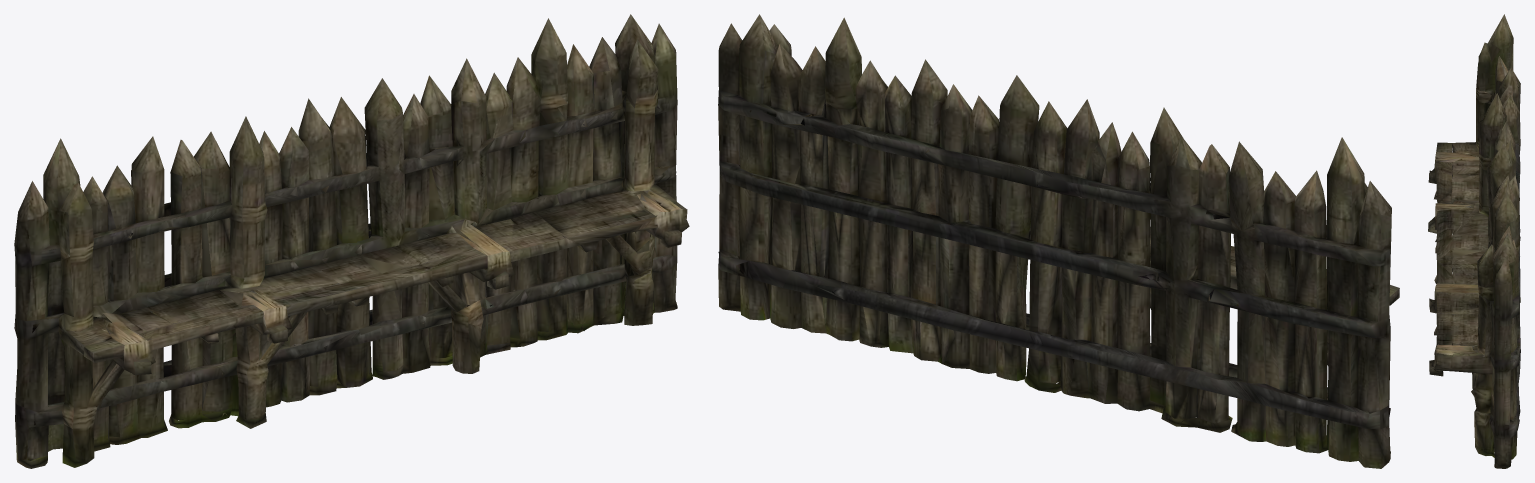
The picture shows the model from 3 angles, left to right: view 1: azimuth 30°, elevation 25°; view 2: azimuth 150°, elevation 25°; view 3: azimuth 270°, elevation 25°; orthographic projection. The views are drawn at different scales.
Parts seen in each view (by area): view 1: world; view 2: world; view 3: world.
Boxes of the visible parts, bbox=[...] form: world: bbox=[14, 14, 689, 468]; world: bbox=[718, 14, 1399, 468]; world: bbox=[1428, 14, 1520, 468].
Bounding box in the file's own units: 1 × 0.4578 × 0.1645.
Materials: 1 (1 with a texture image).
